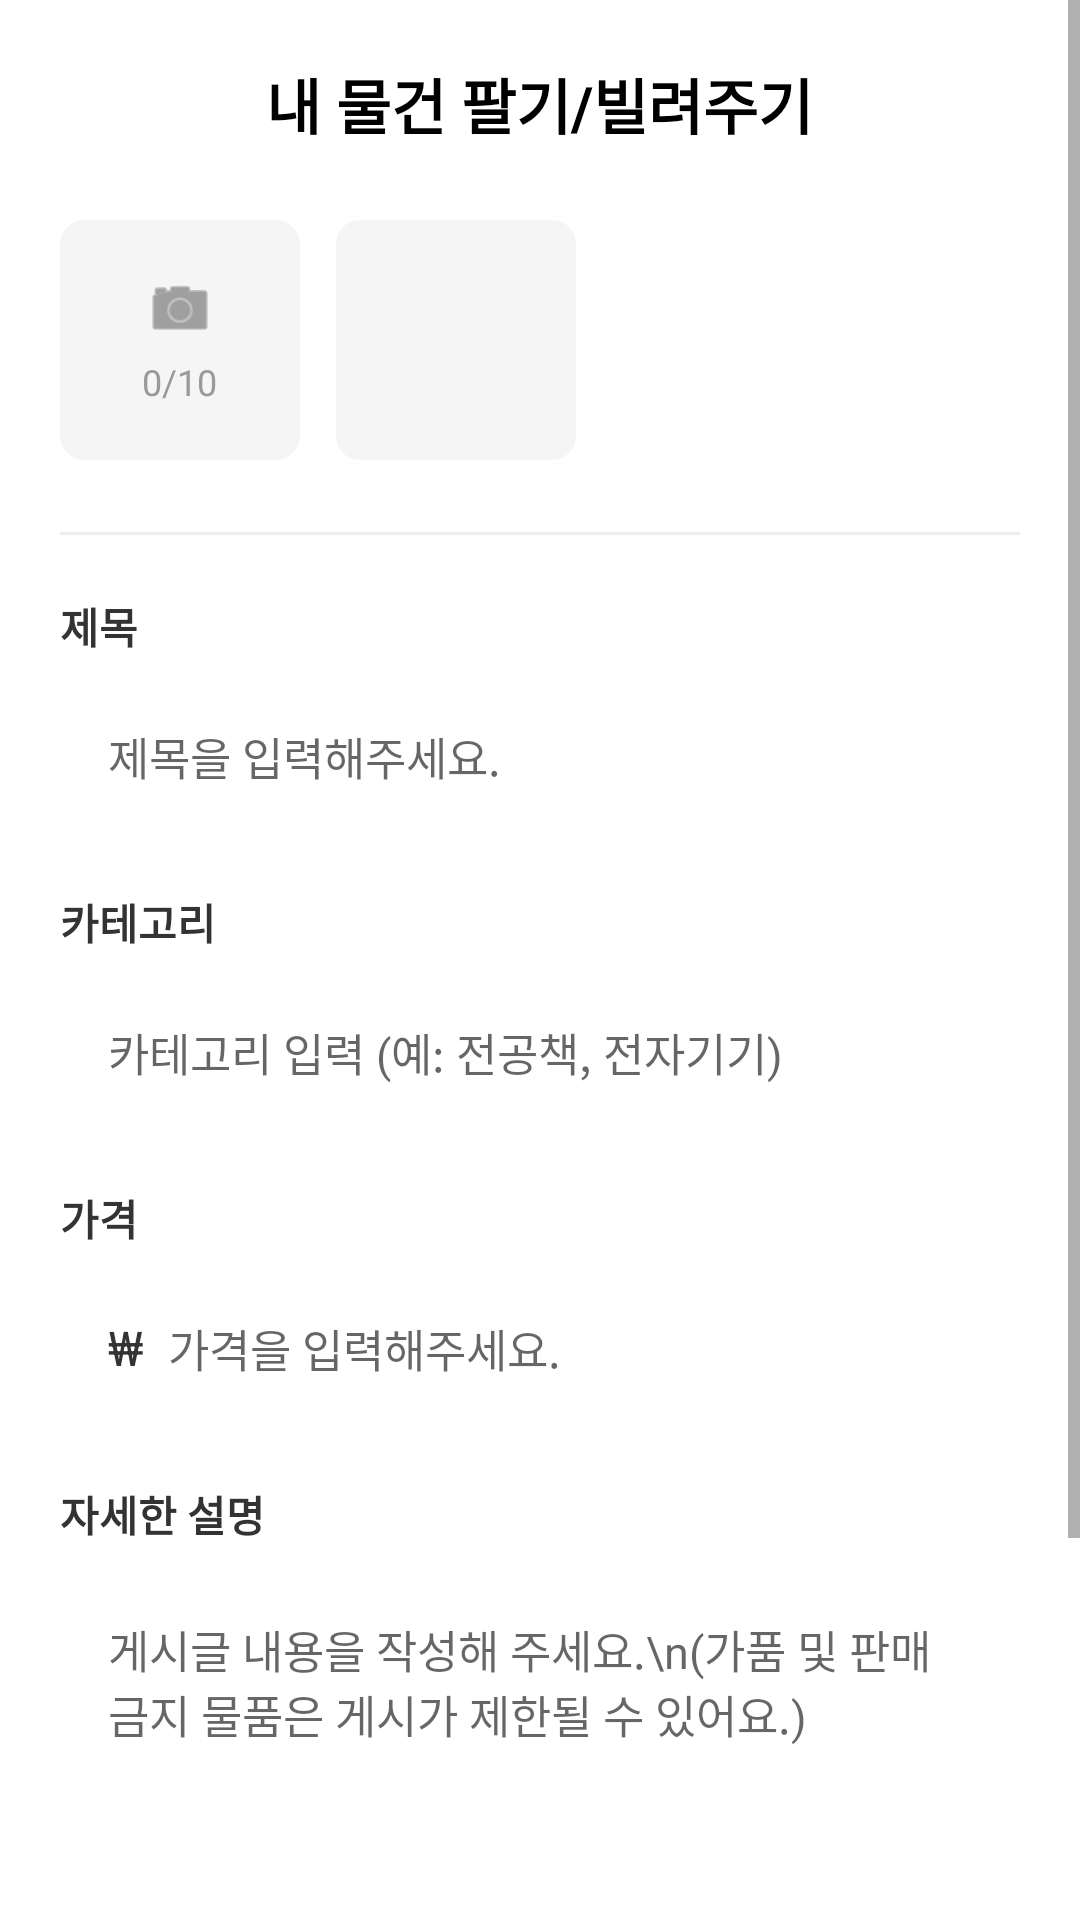

Icon click points for this 1080w x 1920h phone screenshot, format [x,y]:
camera: [180,308]
